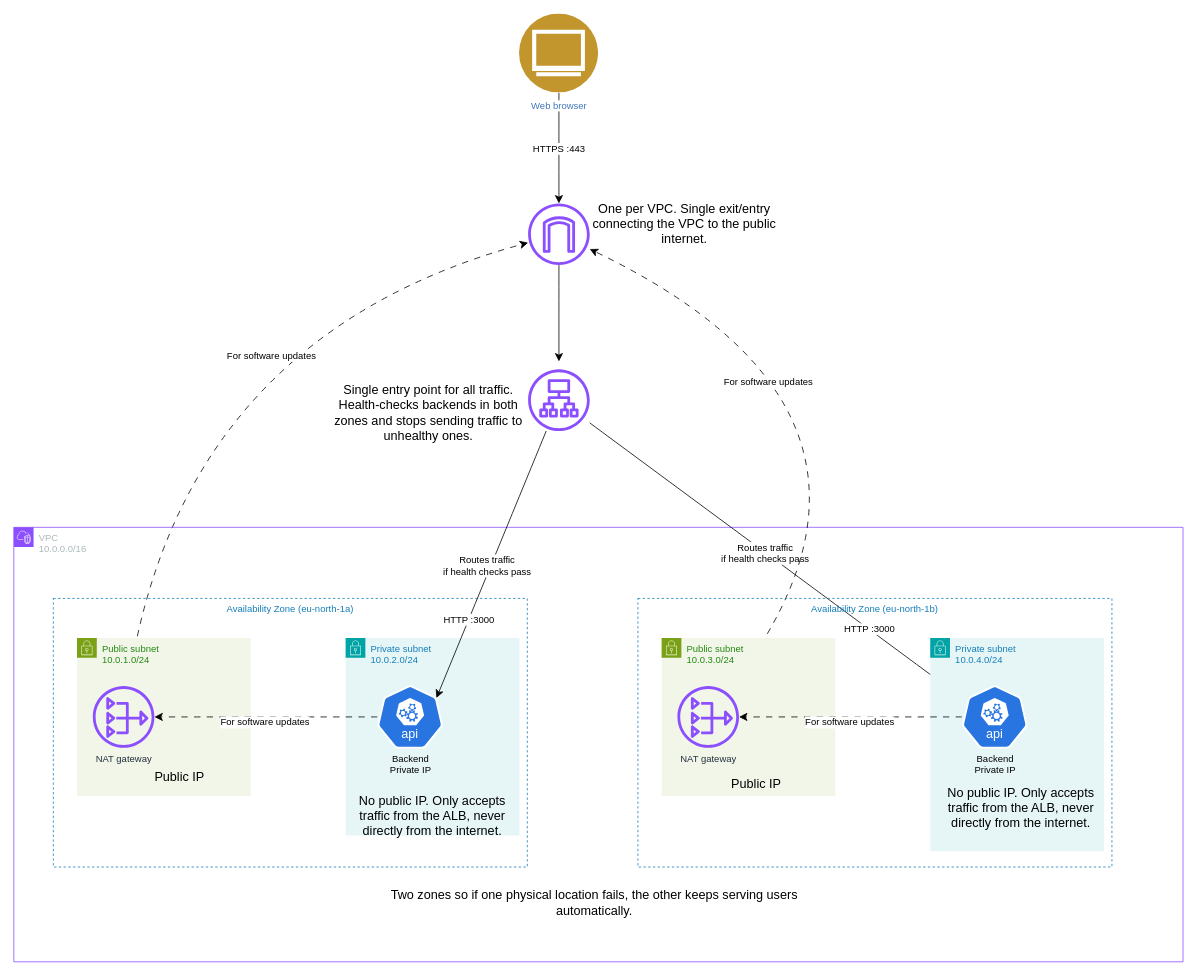
This 1197x976 diagram has some shape labels left out. Here are the shapes that lost their labels. From the top down, the centre of each, then its label:
At (x=558, y=234): "Internet Gateway".
At (x=558, y=400): "Application Load balancer".
